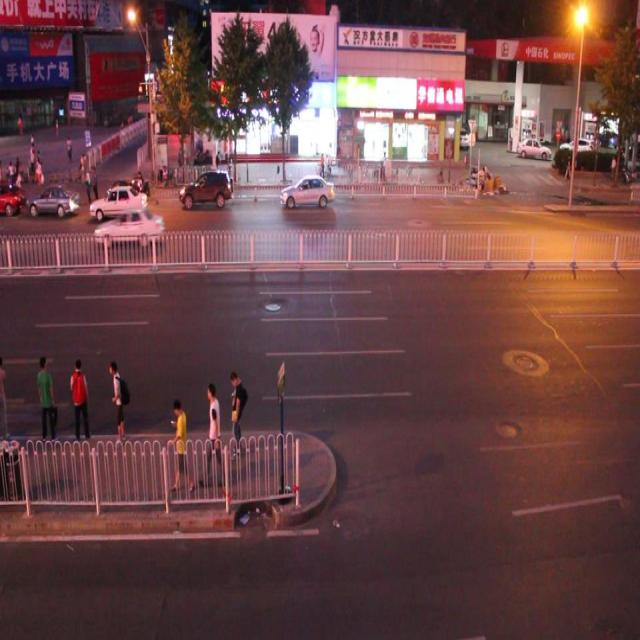car: (94, 206, 164, 248), (175, 172, 237, 217), (278, 175, 335, 220), (25, 186, 81, 226), (90, 185, 150, 222), (101, 180, 145, 223)
